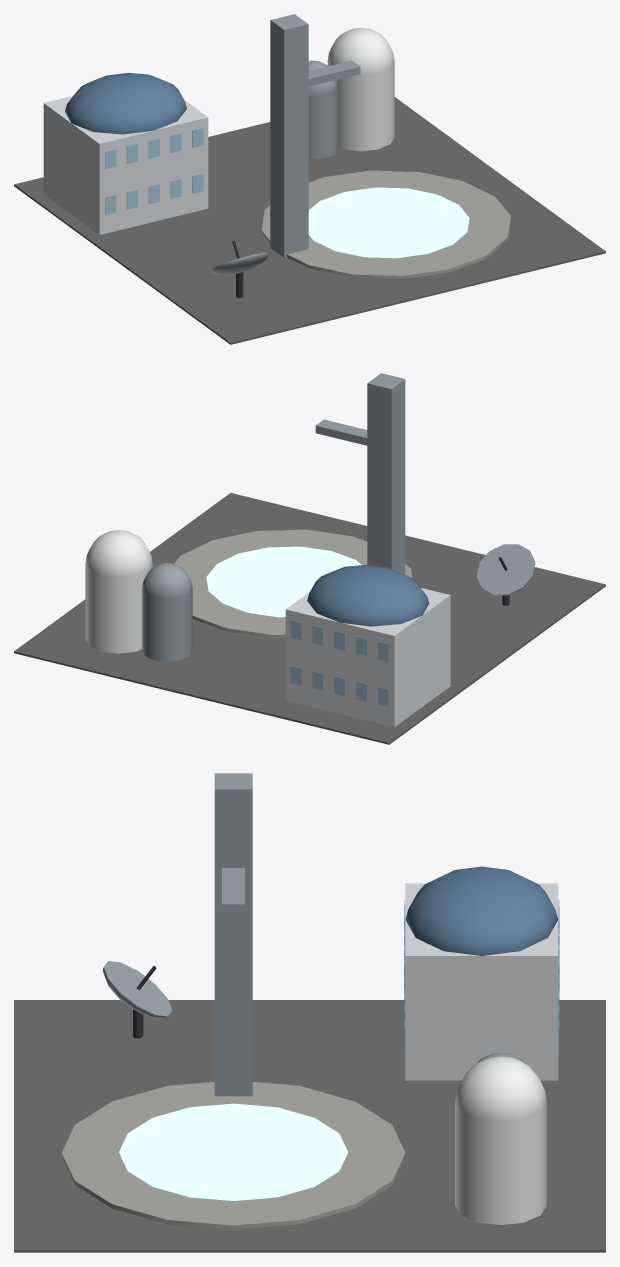
The model's file is bld_special_spaceport_a09.glb.
The picture shows the model from 3 angles, top to bottom: view 1: azimuth 30°, elevation 25°; view 2: azimuth 150°, elevation 25°; view 3: azimuth 270°, elevation 25°; orthographic projection. The views are drawn at different scales.
Parts seen in each view (by area): view 1: body, gantry, antenna; view 2: body, gantry, antenna; view 3: body, gantry, antenna.
Boxes of the visible parts, box(x1,y1,x2,y2) form: body: box(14, 27, 605, 344); gantry: box(270, 14, 360, 258); antenna: box(210, 240, 268, 297); body: box(14, 493, 605, 744); gantry: box(315, 373, 405, 574); antenna: box(476, 544, 535, 605); body: box(14, 866, 605, 1252); gantry: box(214, 773, 252, 1096); antenna: box(102, 961, 172, 1038).
Size of what is drawn, in the model's own units: 31 by 18.15 by 31.
